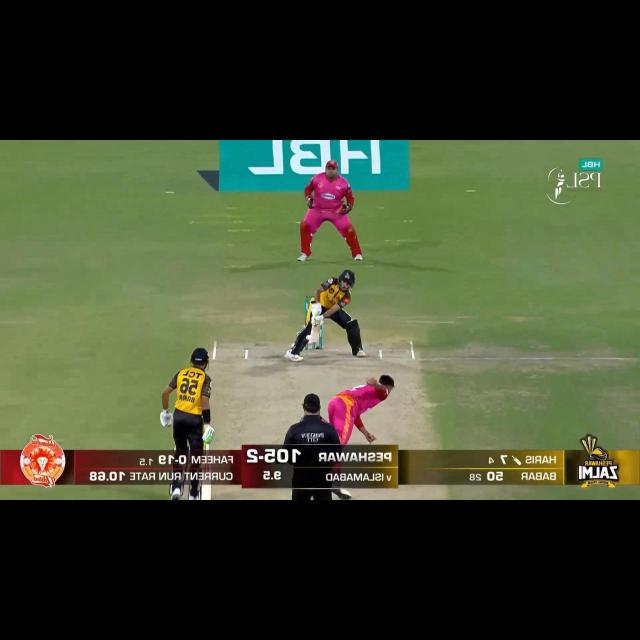bat: (200, 482, 214, 503), (310, 321, 319, 348)
toe: (309, 342, 321, 350)
